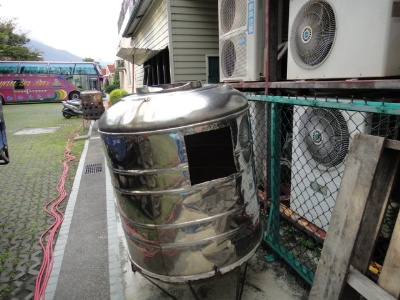water_tower: (97, 79, 267, 300)
